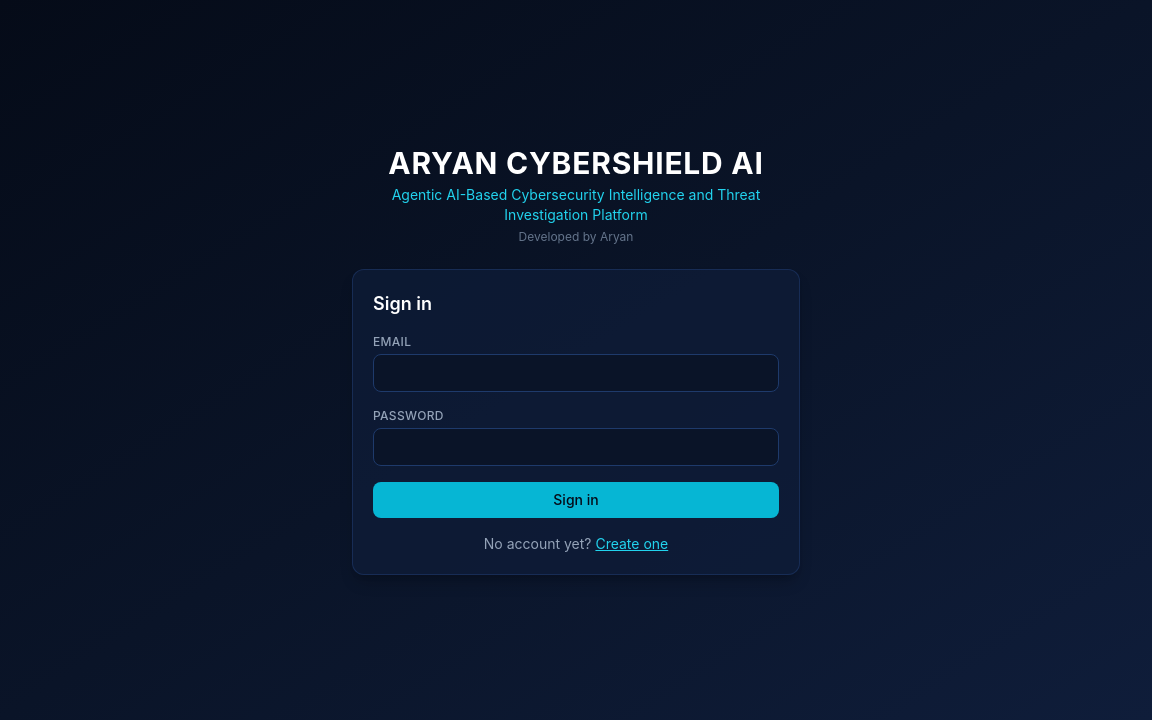
Test case: Login page › switches to registration and validates the password rule
Click the button "Create one". click: (632, 544)
box: [595,534,668,554]
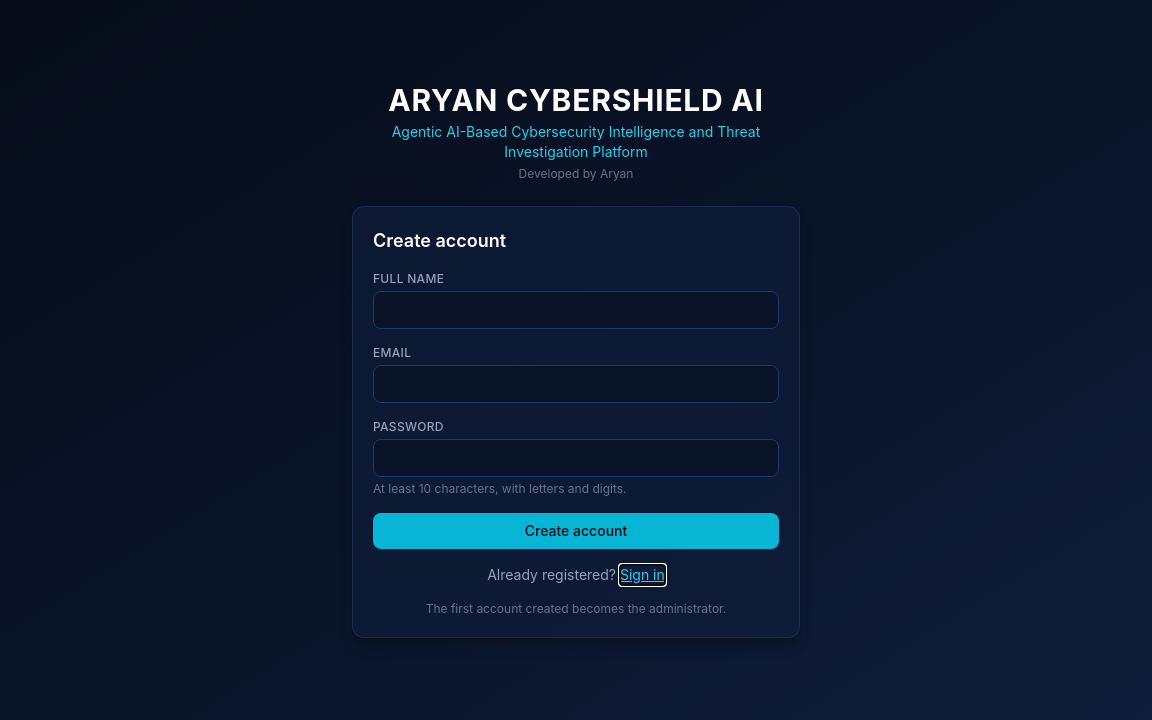
Type "Ann" into the field labelled "Full name". click: (576, 310)
box: [373,291,779,329]
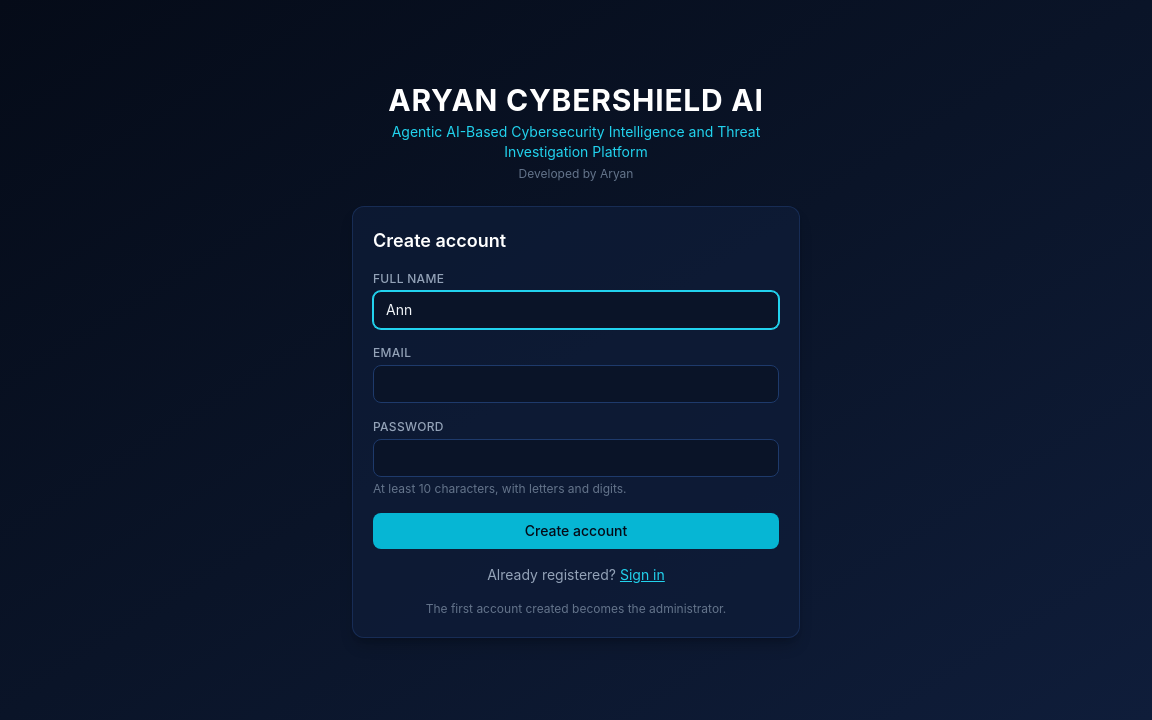
Type "a@b.com" into the field labelled "Email". click: (576, 384)
box: [373,365,779,403]
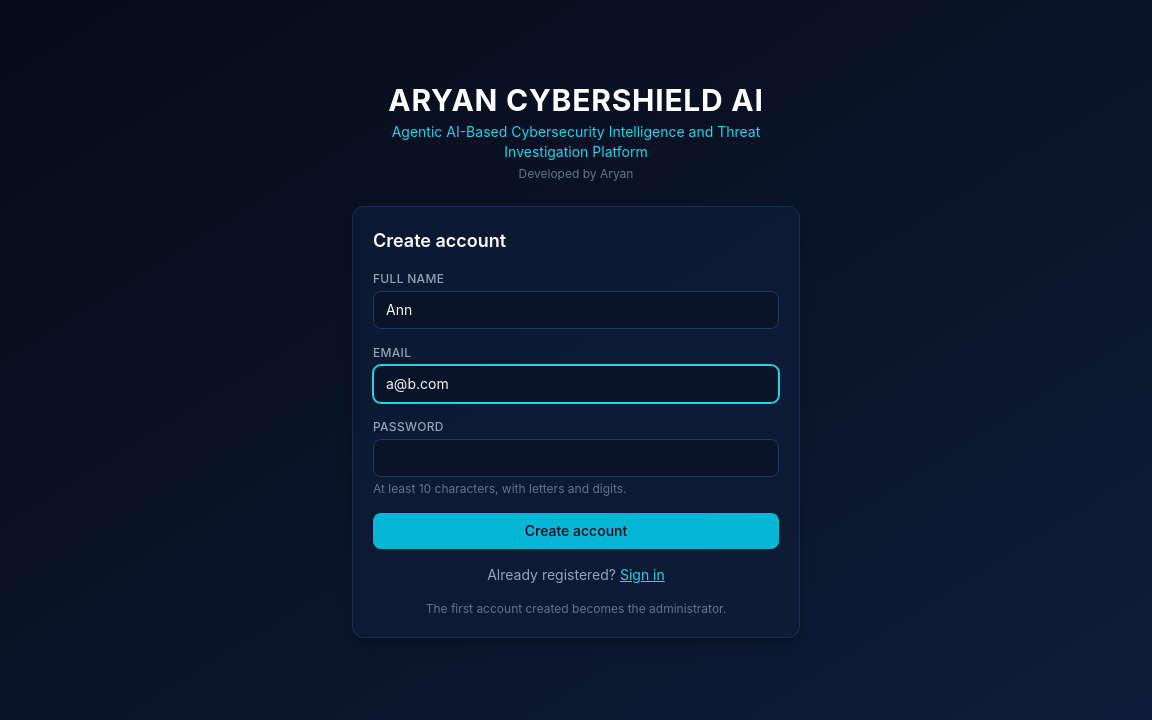
Type "short" into the password field labelled "Password". click: (576, 458)
box: [373,439,779,477]
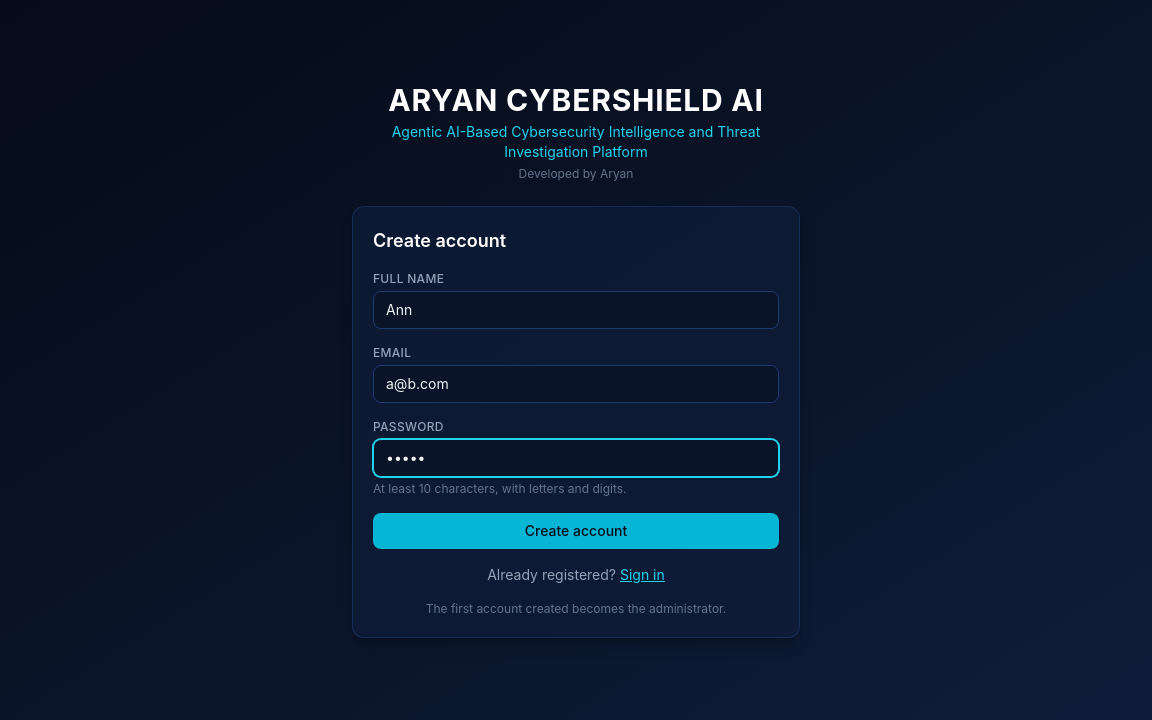
Click the button "Create account". click: (576, 531)
box: [373,513,779,549]
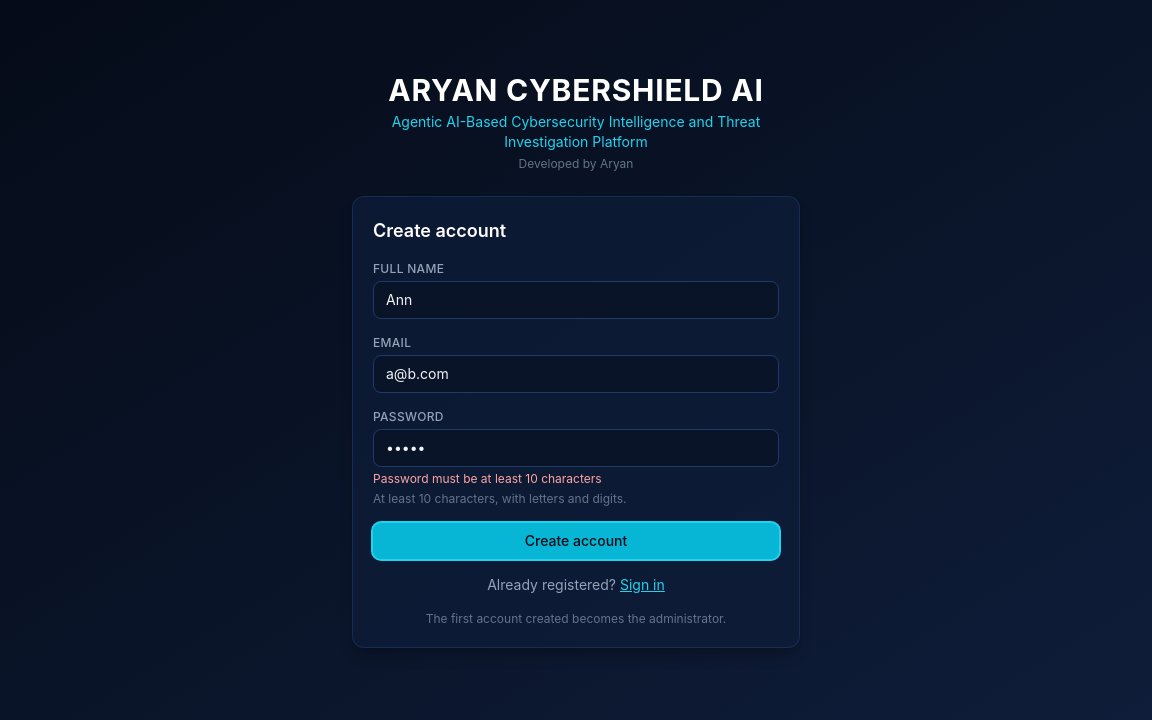
Expected: the text "Password must be at least 10 characters" is shown, [373,471,602,486]
